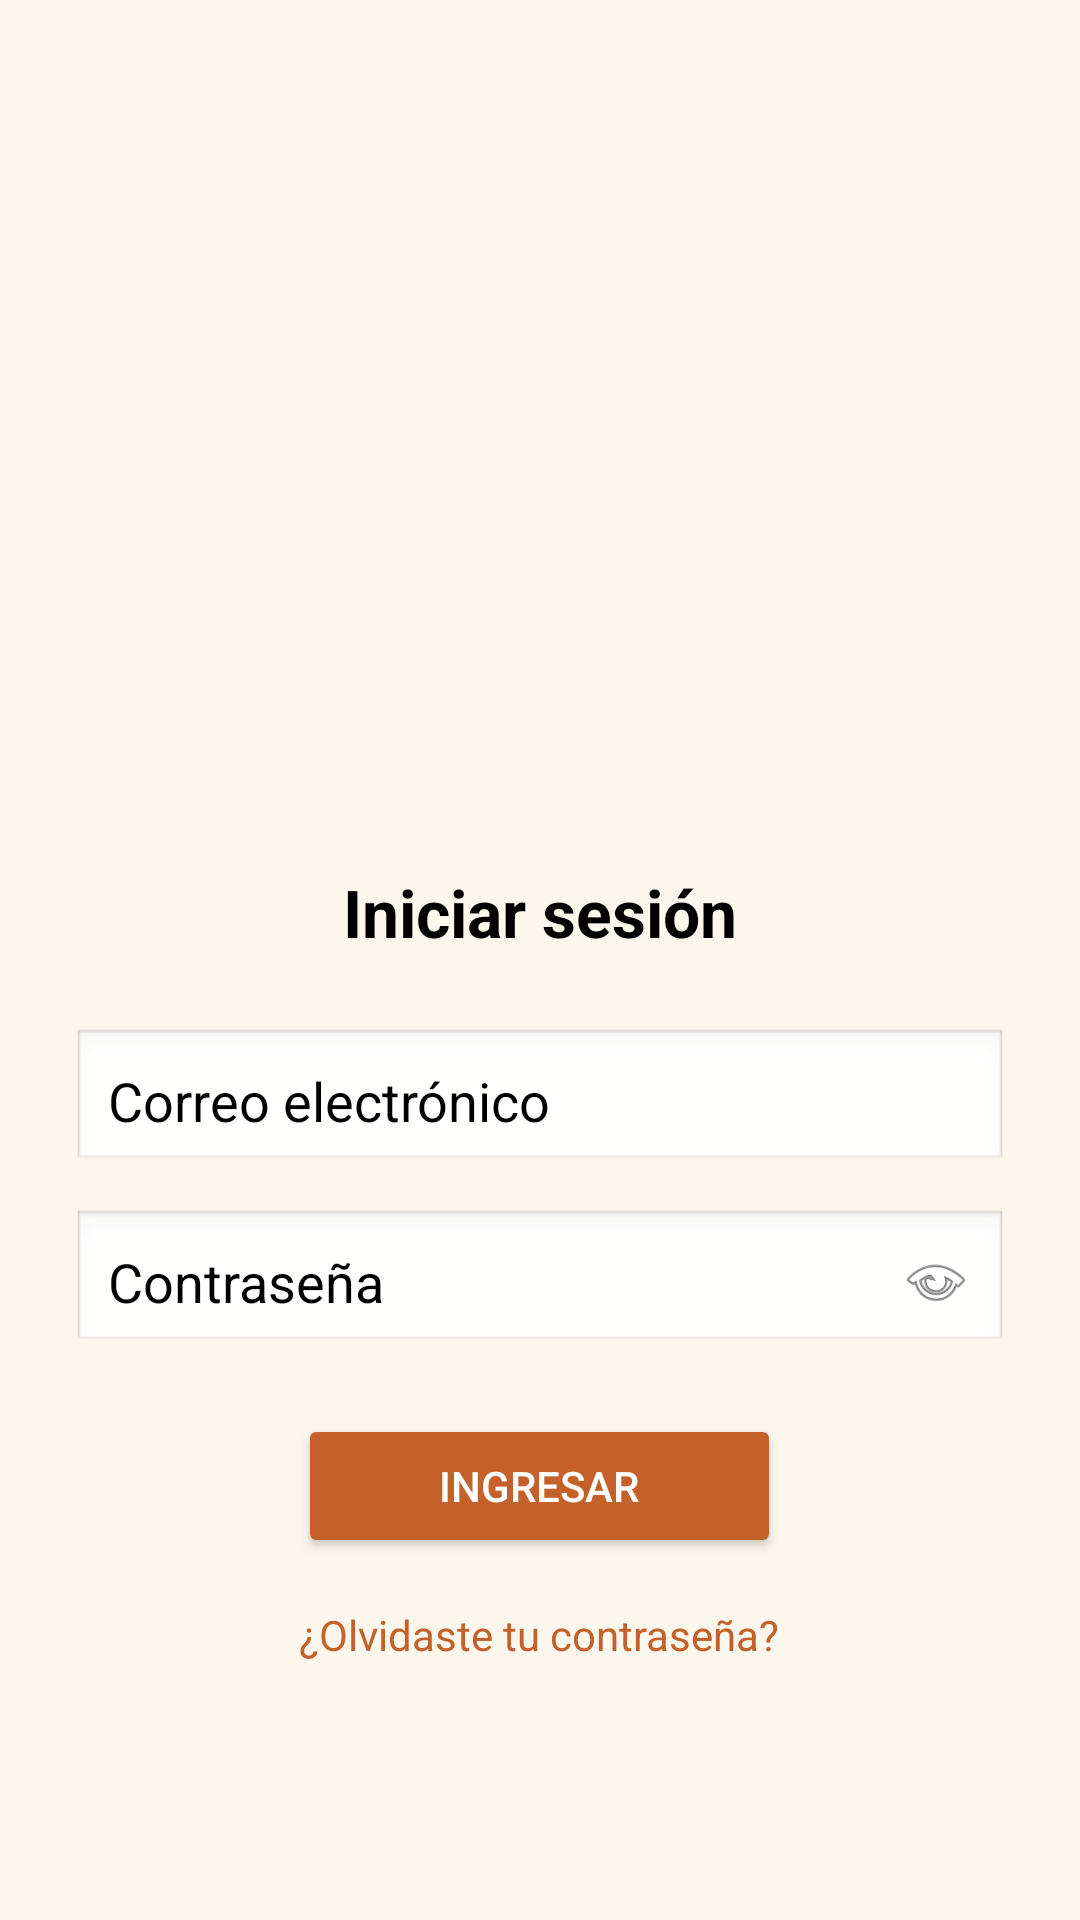

Icon click points for this 1080*1920 phone screenshot, format point (x, y):
view: point (936, 1282)
